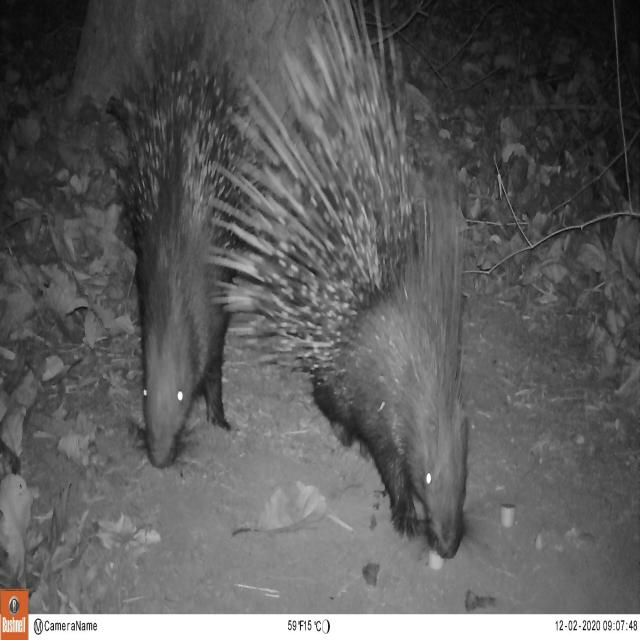Porcupine: (241, 0, 475, 562)
